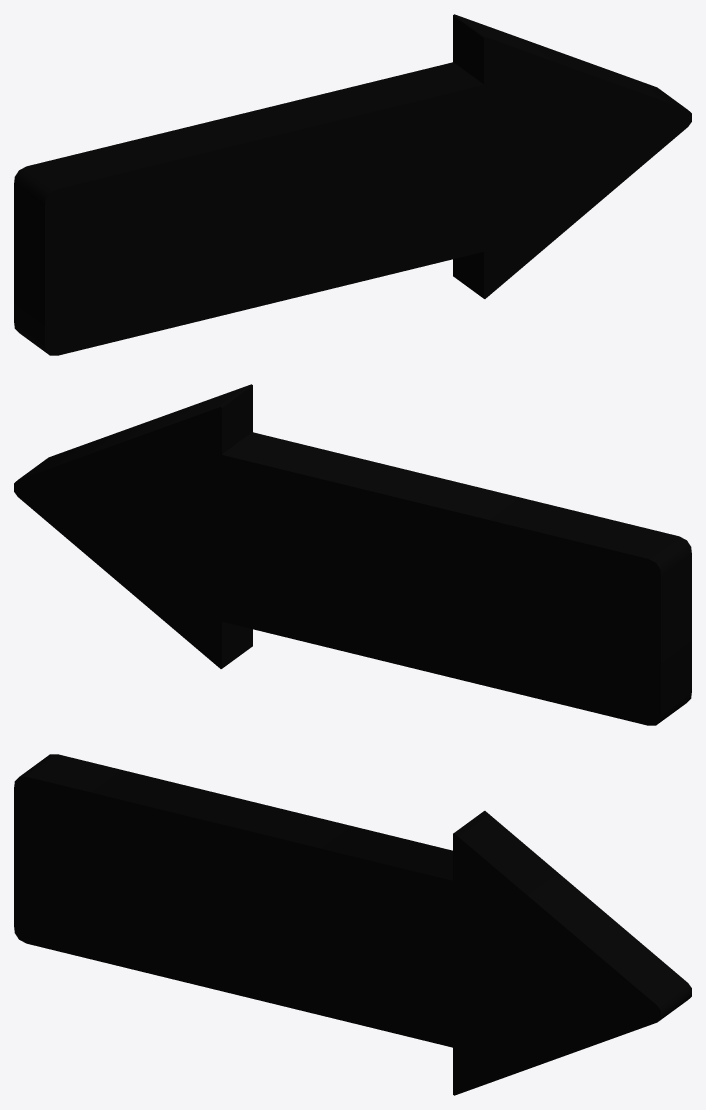
Rendered from flecha.gltf.
3 views of the same model, one above another, from view 1: azimuth 30°, elevation 25°; view 2: azimuth 150°, elevation 25°; view 3: azimuth 330°, elevation 25° (orthographic).
Visible parts, largest first — view 1: Arrow5; view 2: Arrow5; view 3: Arrow5.
Part boxes in pixels (x1,y1,x2,y2): Arrow5: (14, 14, 691, 355); Arrow5: (14, 384, 691, 725); Arrow5: (14, 754, 691, 1095).
Bounding box in the file's own units: 12.12 × 4.7 × 1.
1 material, 1 textured.
